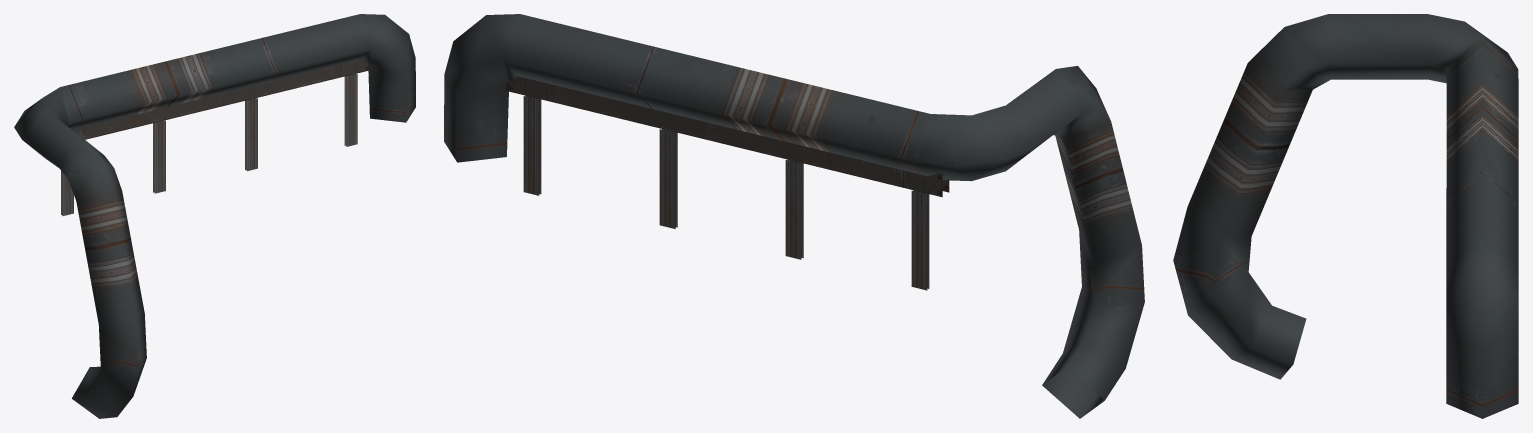
The model's file is Wall3_Pipe3_L2.fbx.
3 views of the same model, side by side, from view 1: azimuth 30°, elevation 25°; view 2: azimuth 150°, elevation 25°; view 3: azimuth 270°, elevation 25° (orthographic). The views are drawn at different scales.
Visible parts, largest first — view 1: Wall3_Pipe3_L2; view 2: Wall3_Pipe3_L2; view 3: Wall3_Pipe3_L2.
Part boxes in pixels (bbox=[...]): Wall3_Pipe3_L2: bbox=[14, 14, 415, 418]; Wall3_Pipe3_L2: bbox=[444, 14, 1144, 418]; Wall3_Pipe3_L2: bbox=[1173, 14, 1518, 418].
Size of the model in its own units: 256 by 159 by 136.
